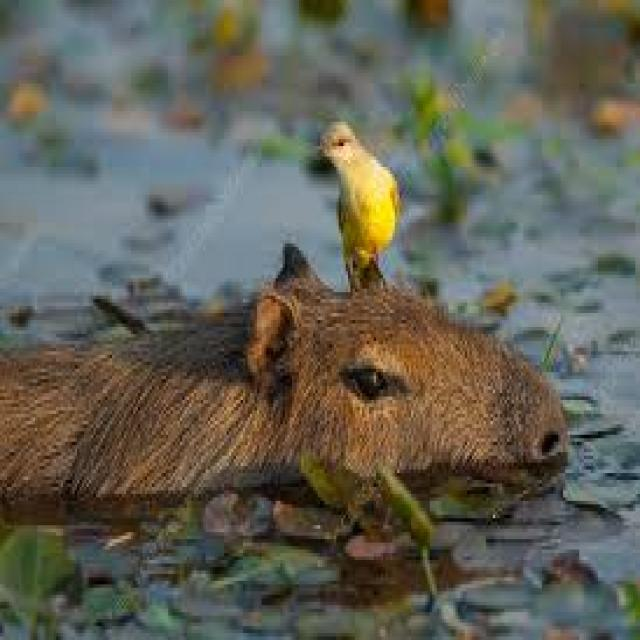capy: (0, 236, 568, 504)
